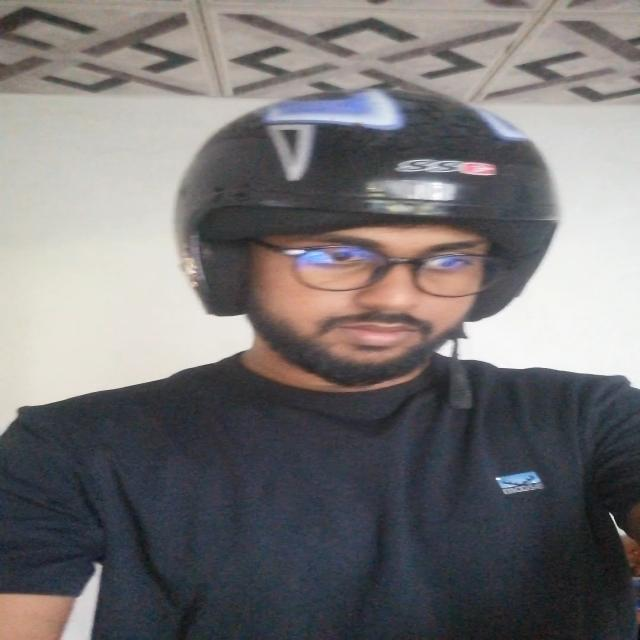Helmet_Wearer: (177, 81, 570, 455)
Person: (0, 95, 640, 628)
